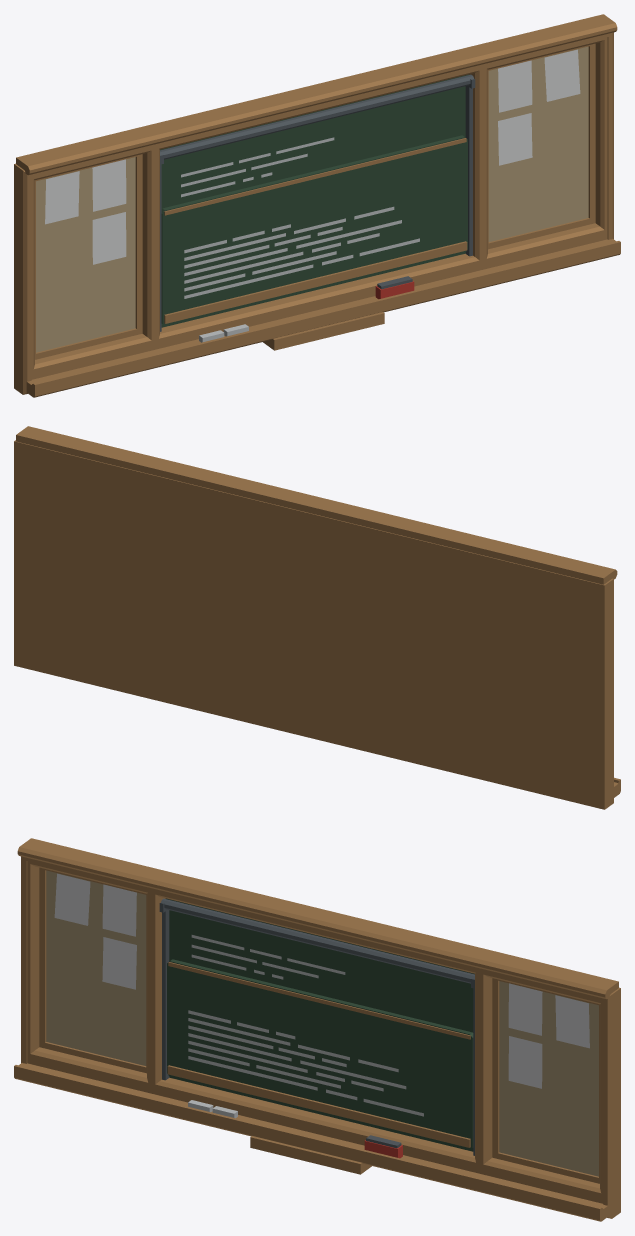
File: teaching-board-7ba611.glb
3 renders of one model, top to bottom at view 1: azimuth 30°, elevation 25°; view 2: azimuth 150°, elevation 25°; view 3: azimuth 330°, elevation 25°, orthographic.
Parts seen in each view (by area): view 1: teaching-board, board-leaf, duster; view 2: teaching-board; view 3: teaching-board, board-leaf, duster.
Part boxes in pixels (x1,y1,x2,y2): teaching-board: [14, 14, 620, 397]; board-leaf: [161, 135, 467, 325]; duster: [375, 276, 414, 299]; teaching-board: [14, 426, 620, 809]; teaching-board: [14, 838, 620, 1221]; board-leaf: [167, 959, 473, 1149]; duster: [364, 1135, 402, 1158].
Bounding box in the file's own units: 3 × 1.15 × 0.177.
